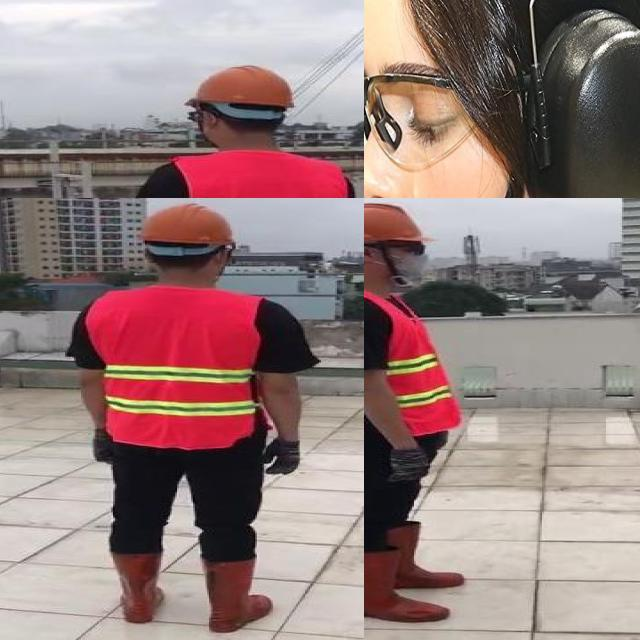Ear-protection: (438, 0, 640, 198)
boots: (364, 537, 451, 626), (364, 518, 461, 588), (197, 554, 274, 630), (106, 549, 172, 624)
face_mask: (380, 240, 432, 280)
glasses: (364, 54, 503, 171)
hand_glove: (386, 451, 434, 484), (266, 439, 301, 475), (90, 430, 118, 464)
head_helmet: (179, 64, 295, 110), (134, 200, 232, 247), (364, 200, 436, 245)
person: (54, 198, 317, 640), (364, 200, 477, 631), (104, 60, 360, 198)
vest: (88, 287, 266, 447), (364, 289, 458, 436), (165, 150, 347, 198)
